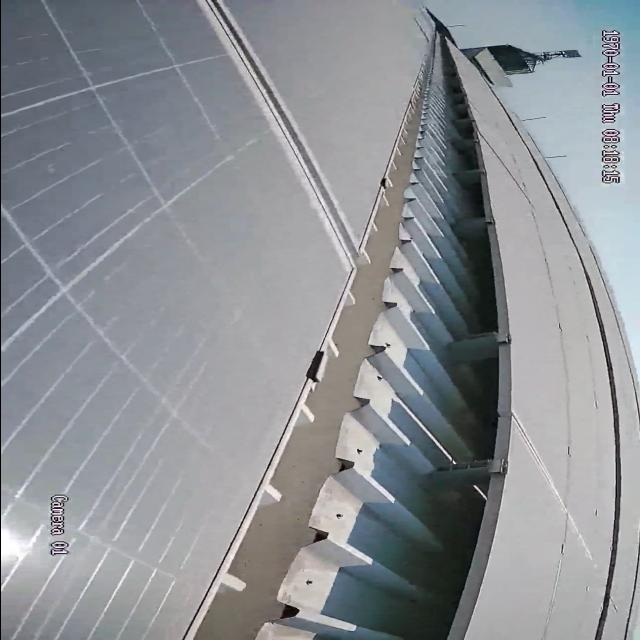interior panel: (200, 3, 361, 263)
outher panel: (184, 31, 513, 638)
